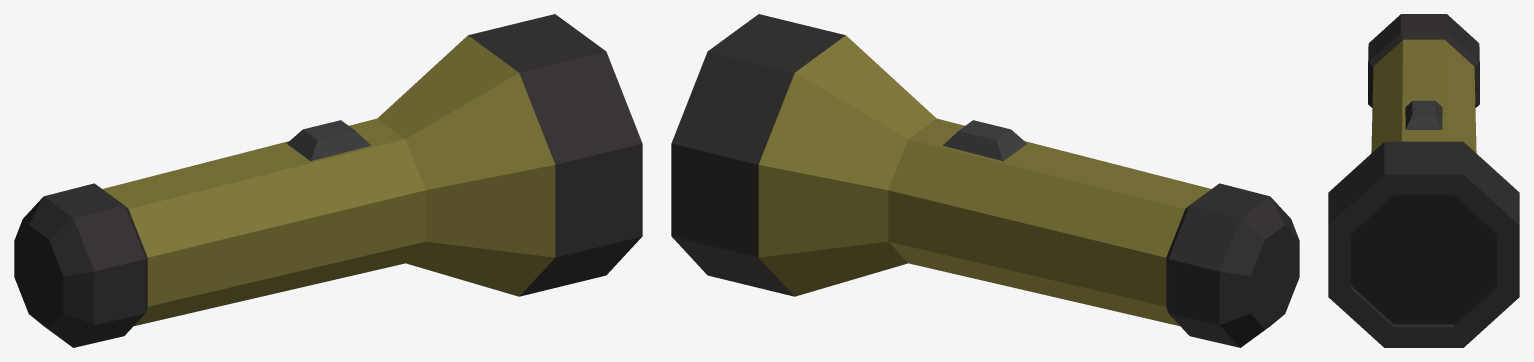
Rendered from flashlight.fbx.
3 views of the same model, side by side, from view 1: azimuth 30°, elevation 25°; view 2: azimuth 150°, elevation 25°; view 3: azimuth 270°, elevation 25° (orthographic). The views are drawn at different scales.
Parts seen in each view (by area): view 1: flashlight; view 2: flashlight; view 3: flashlight.
Part boxes in pixels (left/top/right/bottom): flashlight: left=14, top=14, right=642, bottom=347; flashlight: left=671, top=14, right=1299, bottom=347; flashlight: left=1328, top=14, right=1519, bottom=347.
Size of the model in its own units: 950 by 376 by 376.
